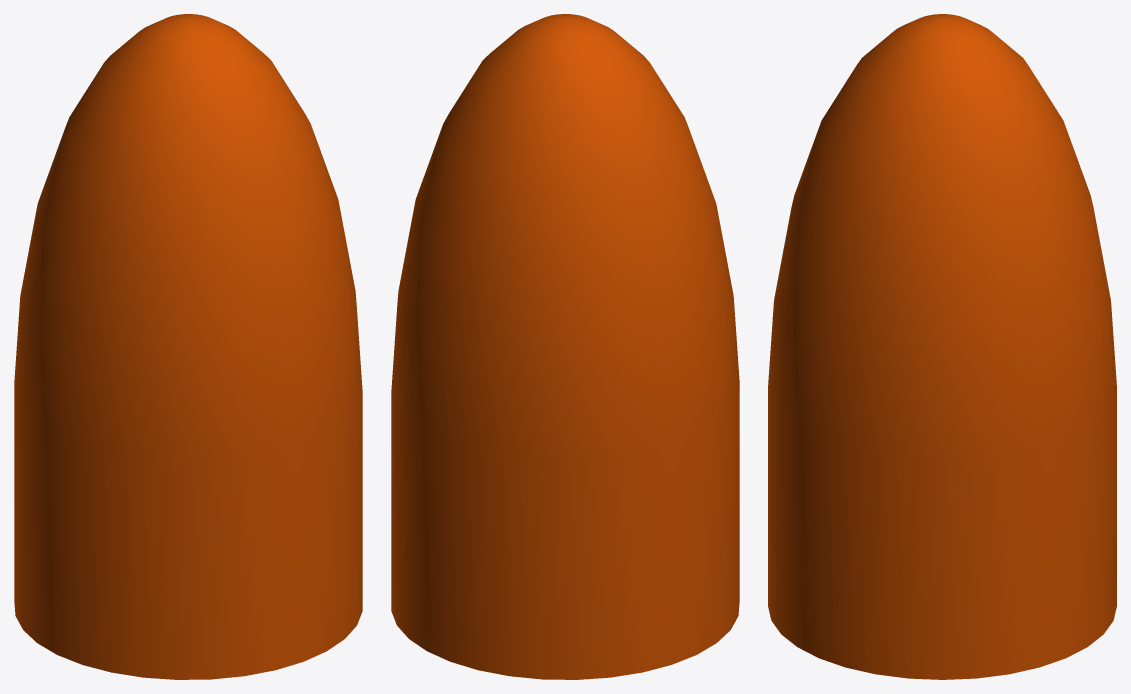
The model's file is 9mm_bullet.fbx.
3 views of the same model, side by side, from view 1: azimuth 30°, elevation 25°; view 2: azimuth 150°, elevation 25°; view 3: azimuth 270°, elevation 25° (orthographic).
Visible parts, largest first — view 1: Cylinder.001; view 2: Cylinder.001; view 3: Cylinder.001.
Part boxes in pixels (box(x1,y1,x2,y2)): Cylinder.001: box(14, 14, 362, 679); Cylinder.001: box(391, 14, 739, 679); Cylinder.001: box(768, 14, 1116, 679).
Bounding box in the file's own units: 0.984 × 1.82 × 0.984.
